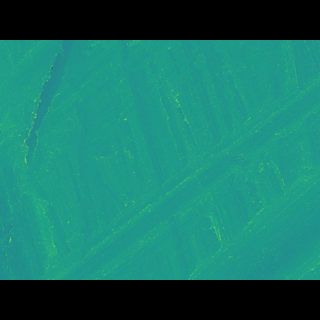Loch: (22, 95, 319, 248), (3, 69, 234, 203)
